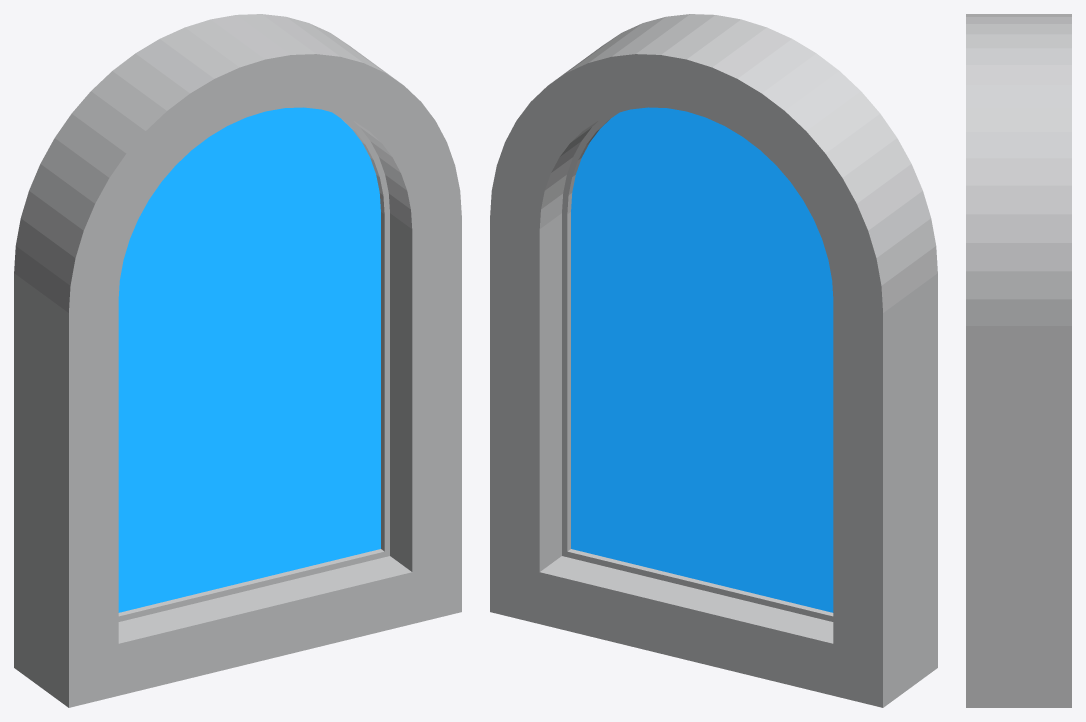
The model's file is janela_arco_inteira_branca.glb.
3 views of the same model, side by side, from view 1: azimuth 30°, elevation 25°; view 2: azimuth 150°, elevation 25°; view 3: azimuth 270°, elevation 25° (orthographic). The views are drawn at different scales.
Parts seen in each view (by area): view 1: janela_arco_inteira_branca; view 2: janela_arco_inteira_branca; view 3: janela_arco_inteira_branca.
Part boxes in pixels (<box>): janela_arco_inteira_branca: <box>14,14,461,707</box>; janela_arco_inteira_branca: <box>490,14,937,707</box>; janela_arco_inteira_branca: <box>966,14,1071,707</box>.
Bounding box in the file's own units: 0.87 × 1.27 × 0.21.
